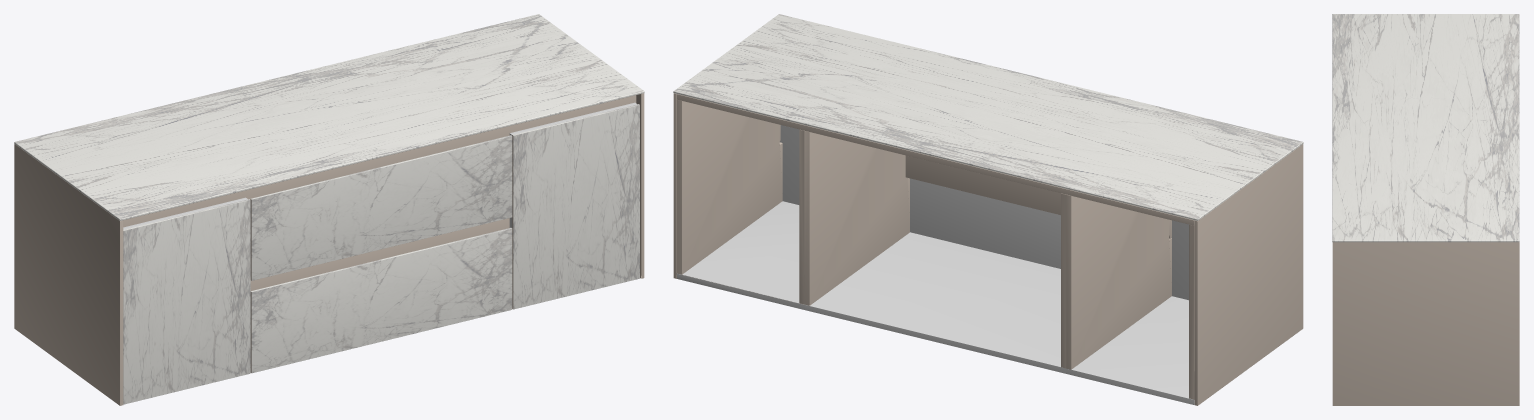
3 renders of one model, left to right at view 1: azimuth 30°, elevation 25°; view 2: azimuth 150°, elevation 25°; view 3: azimuth 270°, elevation 25°, orthographic. The views are drawn at different scales.
Visible parts, largest first — view 1: EL08; view 2: EL08; view 3: EL08.
Boxes of the visible parts, x1=… form: EL08: x1=14, y1=14, x2=644, y2=405; EL08: x1=673, y1=14, x2=1303, y2=405; EL08: x1=1332, y1=14, x2=1519, y2=405.
Bounding box in the file's own units: 1.6 × 0.546 × 0.5606.
Materials: 4 (1 with a texture image).
